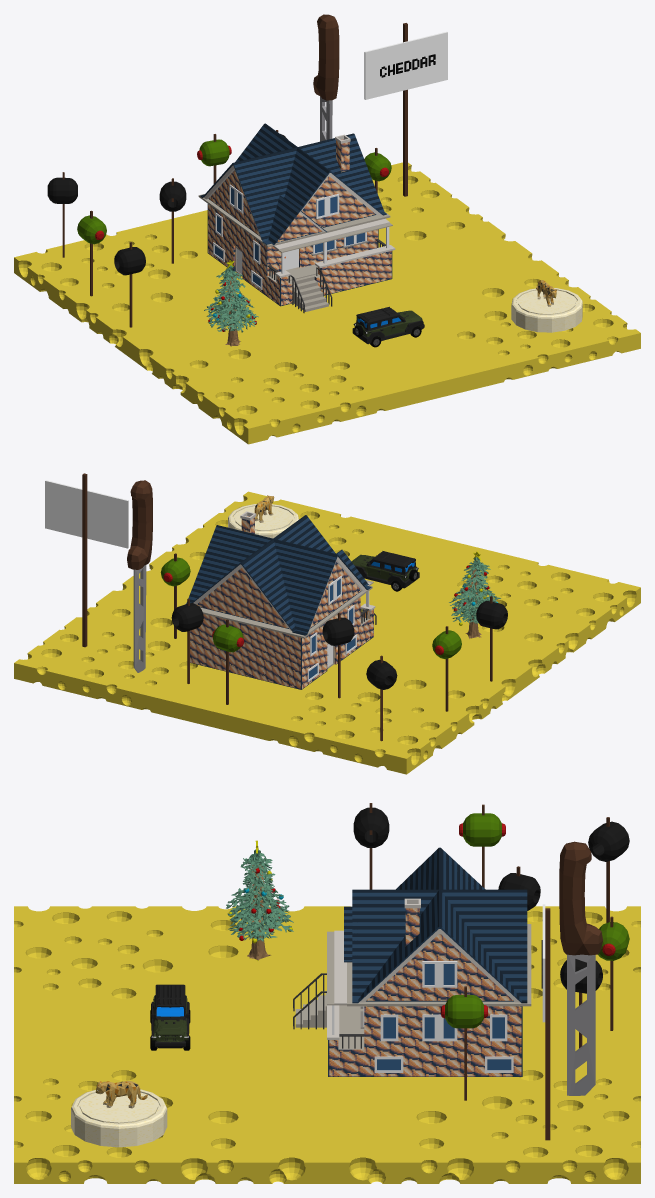
3 views of the same model, one above another, from view 1: azimuth 30°, elevation 25°; view 2: azimuth 150°, elevation 25°; view 3: azimuth 270°, elevation 25° (orthographic). The views are drawn at different scales.
Parts seen in each view (by area): view 1: Cube.022, Cube.430, Cube.023, Cylinder.016, Cube.024, OBJRANDOM_CHRISTMAS_TREE, VEHICLES_JEEP, Sphere.017, Sphere.016, Sphere.020, Sphere.018, Sphere.022 (+1 smaller); view 2: Cube.022, Cube.430, Cube.023, Cube.024, OBJRANDOM_CHRISTMAS_TREE, VEHICLES_JEEP, Cylinder.016, Sphere.017, Sphere.020, Sphere.021, Sphere.016, Sphere.018 (+2 smaller); view 3: Cube.022, Cube.430, Cube.024, Cylinder.016, OBJRANDOM_CHRISTMAS_TREE, VEHICLES_JEEP, Cube.023, Sphere.019, Sphere.016, Sphere.018, Sphere.017, Sphere.022 (+3 smaller).
Part boxes in pixels (x1=…): Cube.022: x1=14, y1=162, x2=640, y2=444; Cube.430: x1=198, y1=123, x2=395, y2=313; Cube.023: x1=364, y1=23, x2=447, y2=196; Cylinder.016: x1=511, y1=288, x2=582, y2=332; Cube.024: x1=313, y1=14, x2=339, y2=141; OBJRANDOM_CHRISTMAS_TREE: x1=204, y1=260, x2=258, y2=346; VEHICLES_JEEP: x1=352, y1=306, x2=424, y2=347; Sphere.017: x1=114, y1=242, x2=145, y2=327; Sphere.016: x1=47, y1=172, x2=77, y2=257; Sphere.020: x1=159, y1=178, x2=186, y2=263; Sphere.018: x1=77, y1=210, x2=106, y2=296; Sphere.022: x1=197, y1=134, x2=231, y2=183; Cube.022: x1=14, y1=491, x2=640, y2=774; Cube.430: x1=185, y1=511, x2=376, y2=689; Cube.023: x1=45, y1=473, x2=128, y2=647; Cube.024: x1=127, y1=480, x2=152, y2=672; OBJRANDOM_CHRISTMAS_TREE: x1=449, y1=551, x2=500, y2=638; VEHICLES_JEEP: x1=351, y1=551, x2=419, y2=591; Cylinder.016: x1=228, y1=504, x2=298, y2=538; Sphere.017: x1=476, y1=596, x2=507, y2=681; Sphere.020: x1=322, y1=612, x2=354, y2=698; Sphere.021: x1=171, y1=598, x2=203, y2=683; Sphere.016: x1=366, y1=655, x2=397, y2=741; Sphere.018: x1=432, y1=626, x2=461, y2=711; Cube.022: x1=14, y1=906, x2=640, y2=1183; Cube.430: x1=293, y1=847, x2=531, y2=1076; Cube.024: x1=559, y1=841, x2=602, y2=1095; Cylinder.016: x1=71, y1=1089, x2=167, y2=1147; OBJRANDOM_CHRISTMAS_TREE: x1=226, y1=840, x2=293, y2=961; VEHICLES_JEEP: x1=150, y1=984, x2=190, y2=1050; Cube.023: x1=541, y1=904, x2=550, y2=1140; Sphere.019: x1=441, y1=986, x2=487, y2=1100; Sphere.016: x1=588, y1=817, x2=629, y2=922; Sphere.018: x1=459, y1=804, x2=505, y2=887; Sphere.017: x1=353, y1=803, x2=389, y2=889; Sphere.022: x1=598, y1=916, x2=629, y2=1030.
Bounding box in the file's own units: 3917 × 2010 × 4000.
39 materials, 4 textured.
